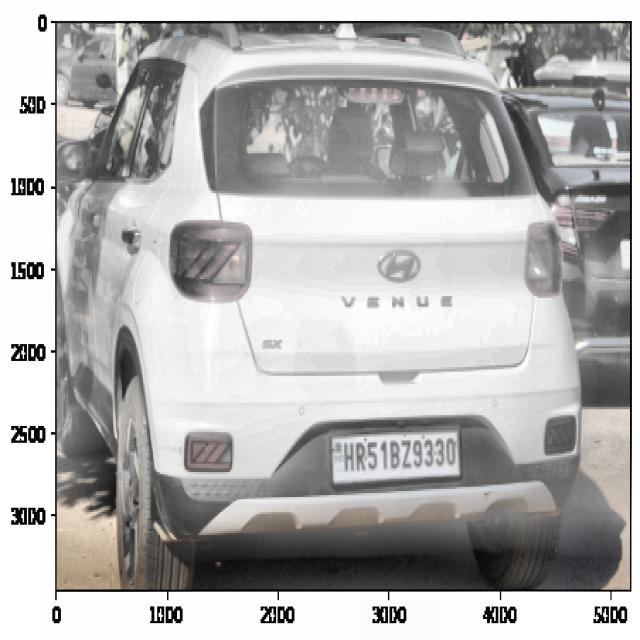license_plate: (338, 431, 460, 480)
